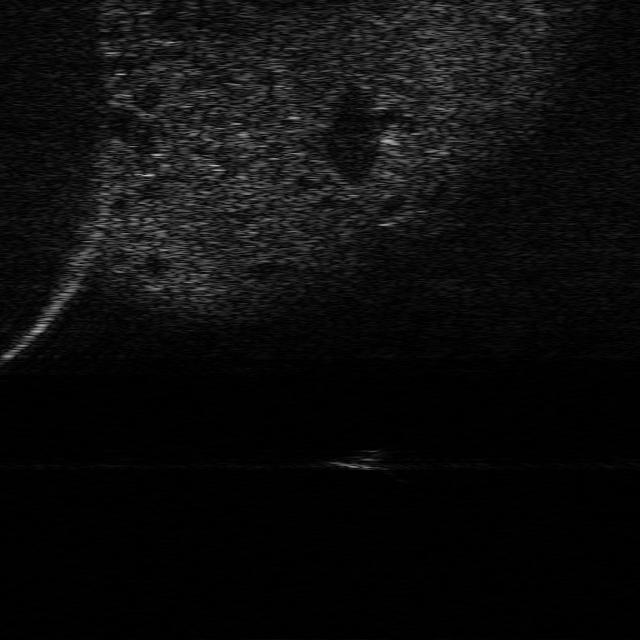cube: (328, 446, 388, 471)
